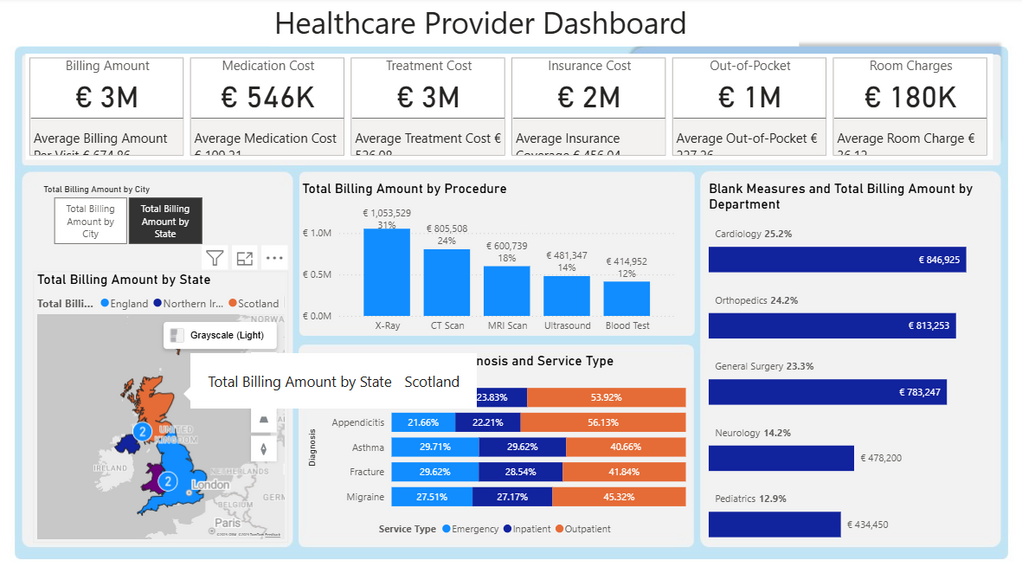

This screenshot's page, from the dashboard's own definition file:
{"tool":"powerbi","page":{"name":"Page 2","canvas":[1280,720],"ordinal":0},"visuals":[{"type":"cardVisual","fields":{"Data":["DAX Calculations.Total Billing Amount","DAX Calculations.Total Medication cost","DAX Calculations.Total Treatement Cost","DAX Calculations.Total Insurance Coverage","DAX Calculations.Out-of-Pocket","DAX Calculations.Total Room Charges"]},"box":[35,70,1204,132],"z":0},{"type":"azureMap","fields":{"Series":["cities.State"],"Category":["cities.State"]},"box":[44,340,318,339],"z":1000},{"type":"slicer","fields":{"Values":["Patients Location Switch.Patients Location Switch"]},"box":[44,227,234,84],"z":2000},{"type":"clusteredColumnChart","fields":{"Category":["procedures.Procedure"],"Y":["DAX Calculations.Total Billing Amount"]},"box":[374,227,475,199],"z":3000},{"type":"hundredPercentStackedBarChart","fields":{"Y":["DAX Calculations.Total Billing Amount"],"Category":["diagnoses.Diagnosis"],"Series":["visits.Service Type"]},"box":[381,441,481,238],"z":4000},{"type":"clusteredBarChart","fields":{"Category":["departments.Department"],"Y":["DAX Calculations.Blank Measures","DAX Calculations.Total Billing Amount"]},"box":[881,227,358,452],"z":5000},{"type":"textbox","box":[339.3,0,658.3,60.6],"z":5001}]}

Visuals, with their boxes in screenshot pixels (x1, y1, x2, y2), scaled from the page's 1280x720 canvas onto the 1022x573 screenshot:
cardVisual - DAX Calculations.Total Billing Amount x DAX Calculations.Total Medication cost: [x1=28, y1=56, x2=989, y2=161]
azureMap - cities.State x cities.State: [x1=35, y1=271, x2=289, y2=540]
slicer - Patients Location Switch.Patients Location Switch: [x1=35, y1=181, x2=222, y2=248]
clusteredColumnChart - procedures.Procedure x DAX Calculations.Total Billing Amount: [x1=299, y1=181, x2=678, y2=339]
hundredPercentStackedBarChart - DAX Calculations.Total Billing Amount x diagnoses.Diagnosis: [x1=304, y1=351, x2=688, y2=540]
clusteredBarChart - departments.Department x DAX Calculations.Blank Measures: [x1=703, y1=181, x2=989, y2=540]
textbox: [x1=271, y1=0, x2=797, y2=48]
